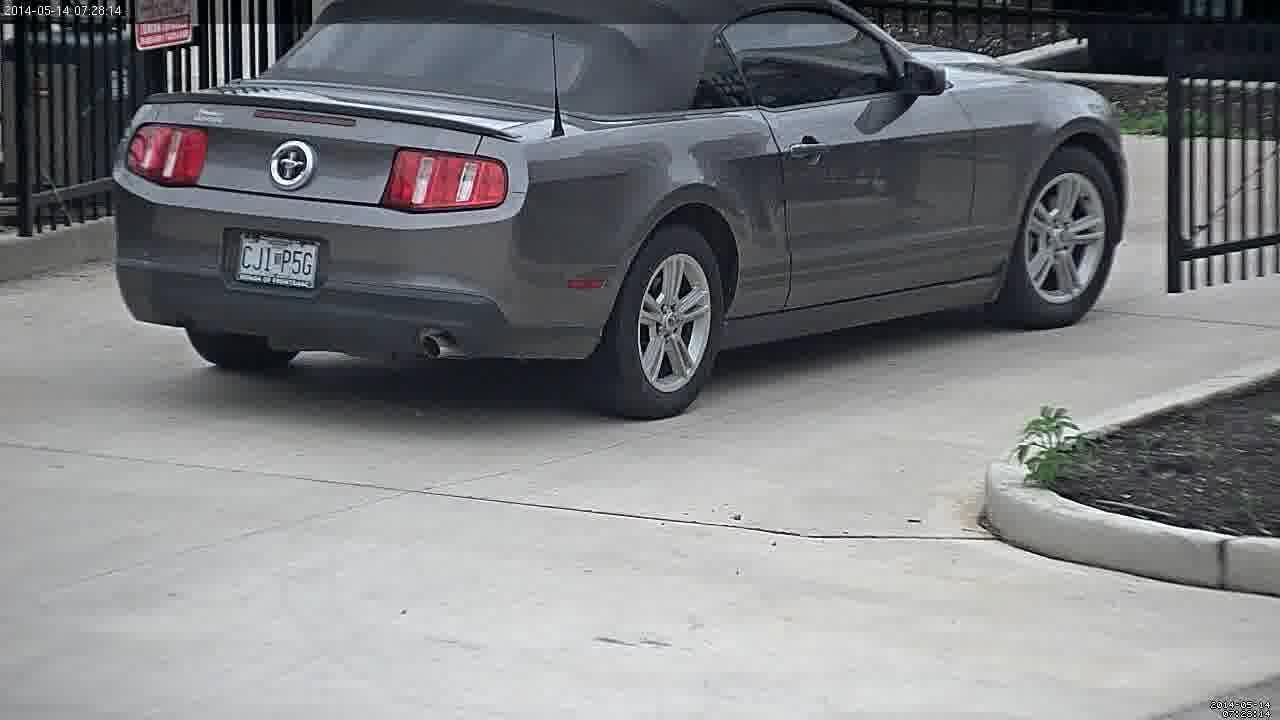placa de veiculo: (211, 222, 339, 297)
